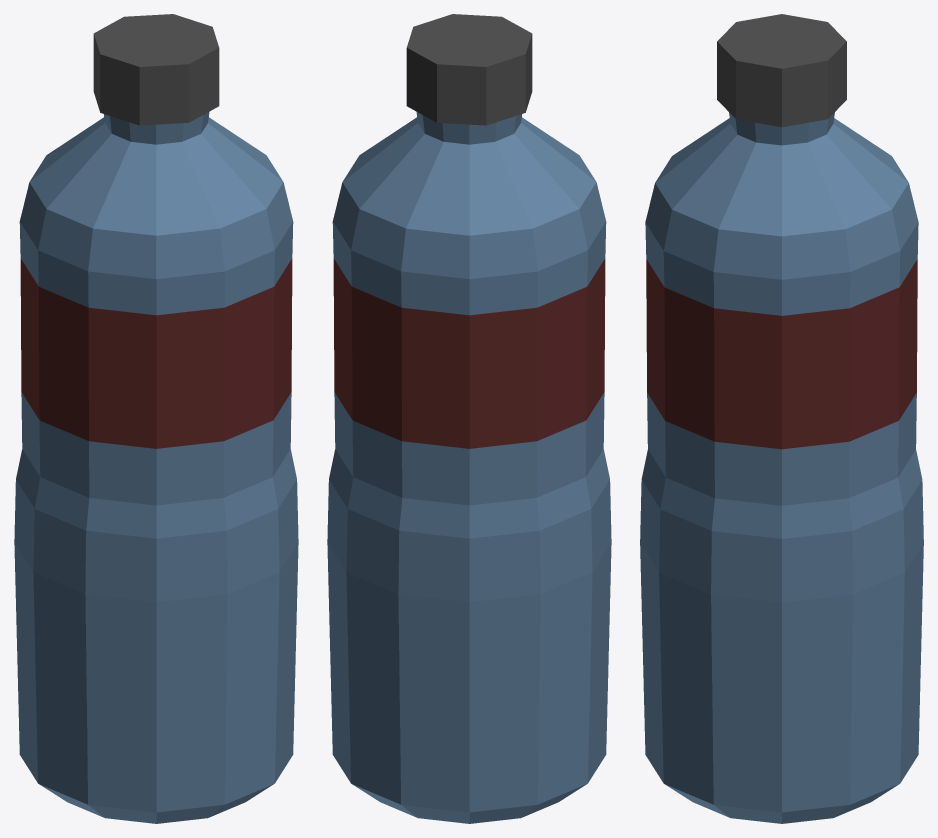
The model's file is water-bottle.glb.
The picture shows the model from 3 angles, left to right: view 1: azimuth 30°, elevation 25°; view 2: azimuth 150°, elevation 25°; view 3: azimuth 270°, elevation 25°; orthographic projection.
Parts seen in each view (by area): view 1: WaterBottle_3; view 2: WaterBottle_3; view 3: WaterBottle_3.
Part boxes in pixels (x1,y1,x2,y2): WaterBottle_3: (14, 14, 298, 823); WaterBottle_3: (327, 14, 611, 823); WaterBottle_3: (640, 14, 923, 823).
Bounding box in the file's own units: 0.4995 × 1.44 × 0.4995.
